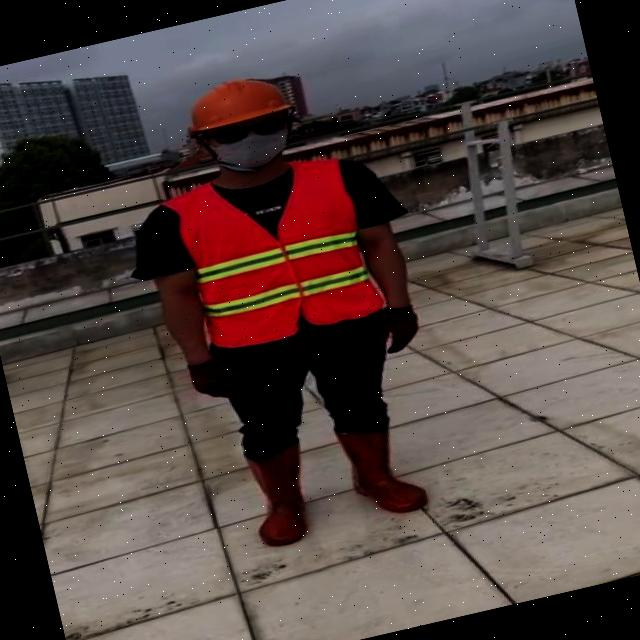vest: (166, 149, 384, 354)
